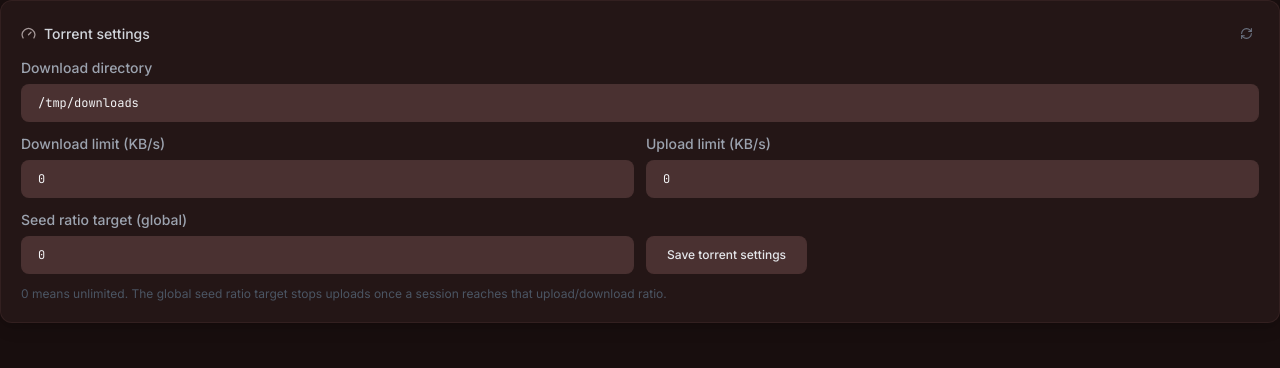
torrent settings panel › saves the directory, limits, and seed ratio
Replace the text in the field with test id "torrent-download-dir" with "/tmp/torrents" at x=640, y=103, box [21, 84, 1259, 122]
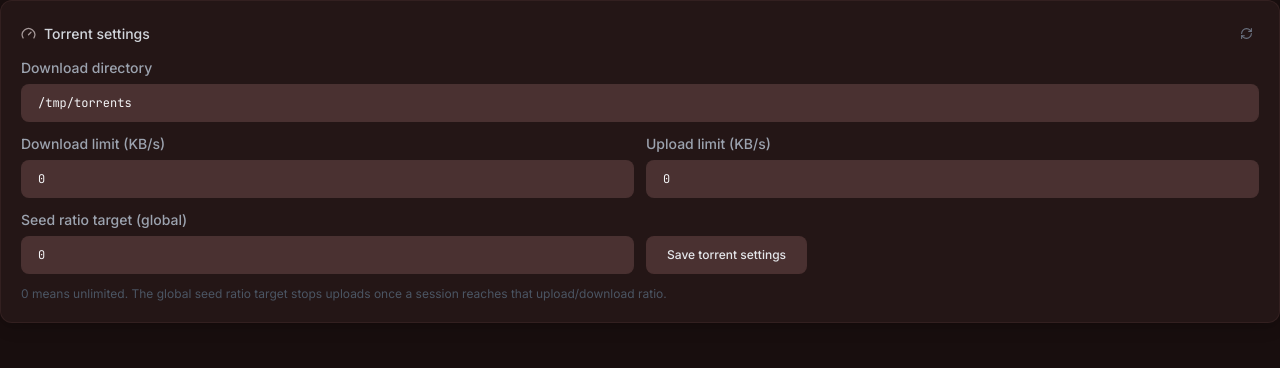
Replace the text in the field with test id "torrent-download-limit" with "100" at x=328, y=179, box [21, 160, 634, 198]
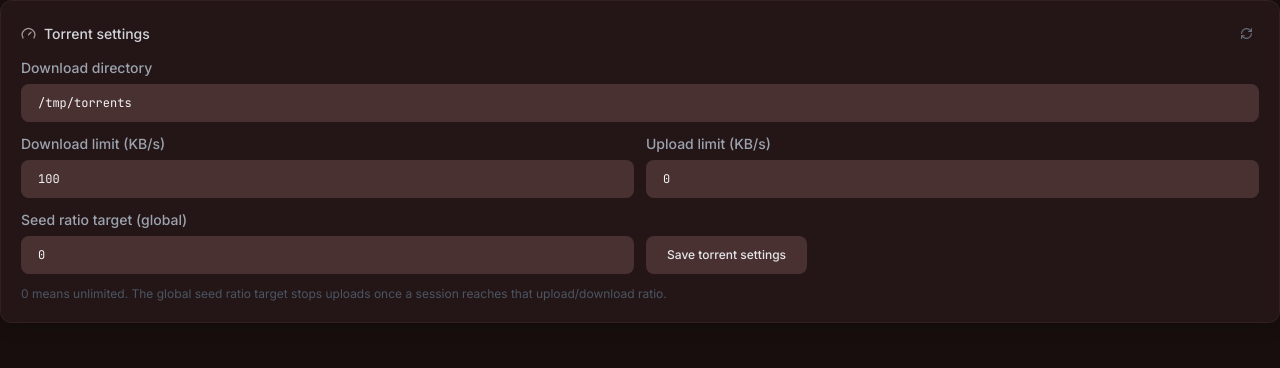
Replace the text in the field with test id "torrent-upload-limit" with "50" at x=952, y=179, box [646, 160, 1259, 198]
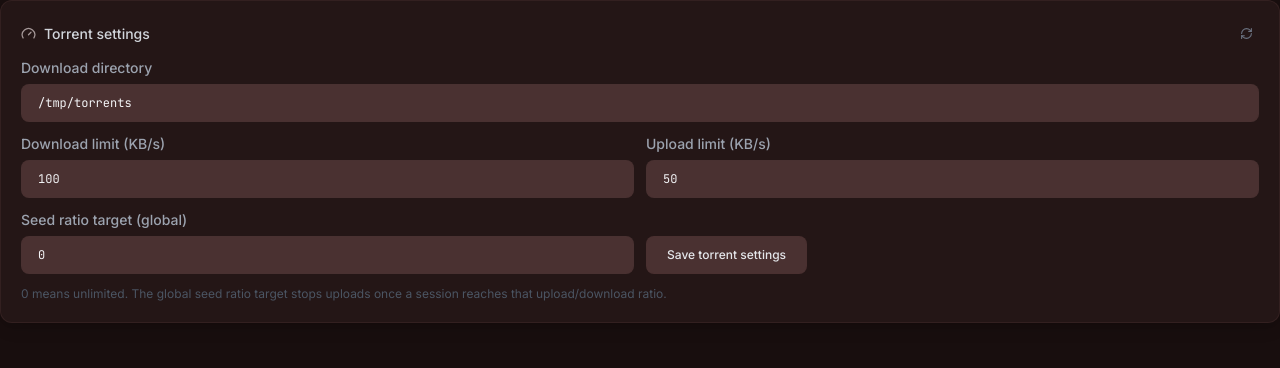
Replace the text in the field with test id "torrent-seed-ratio" with "1.5" at x=328, y=255, box [21, 236, 634, 274]
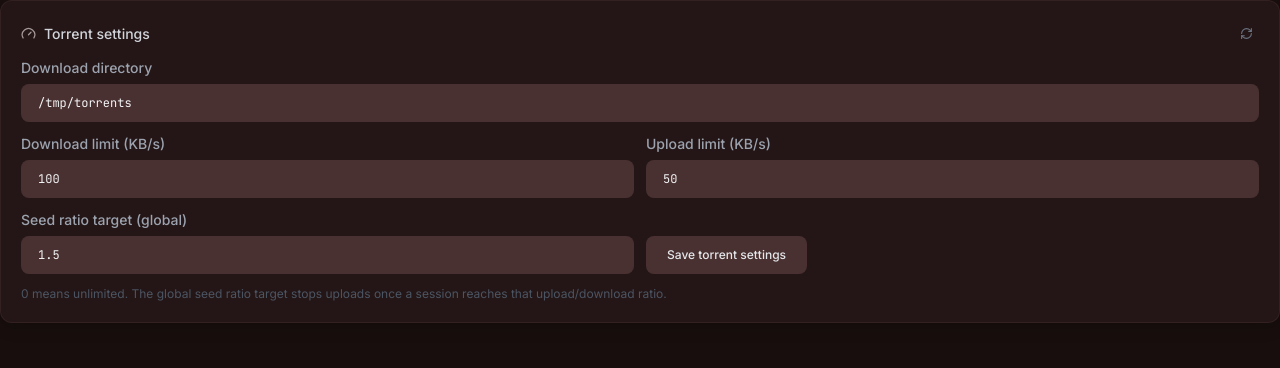
Click the button with test id "torrent-settings-save" at x=726, y=255, box [646, 236, 807, 274]
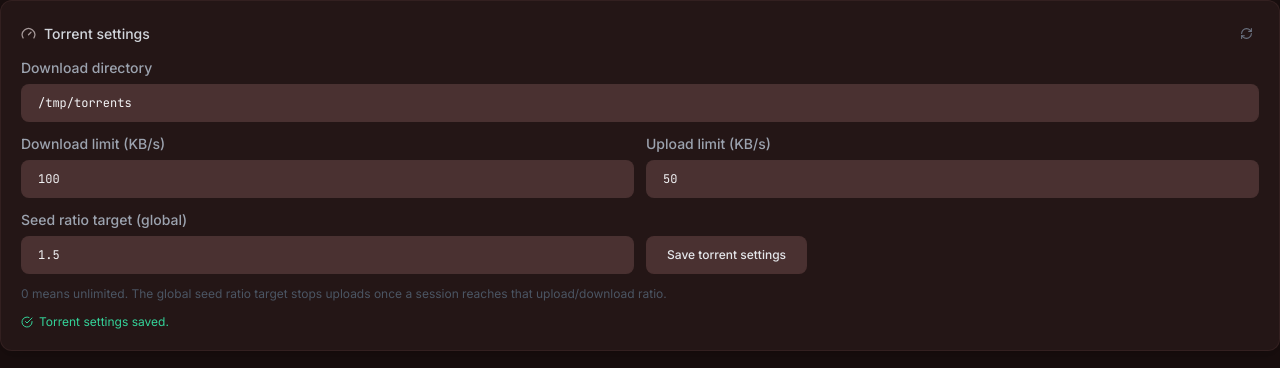
Result: the text "Torrent settings saved." is shown at [21, 314, 169, 329]
